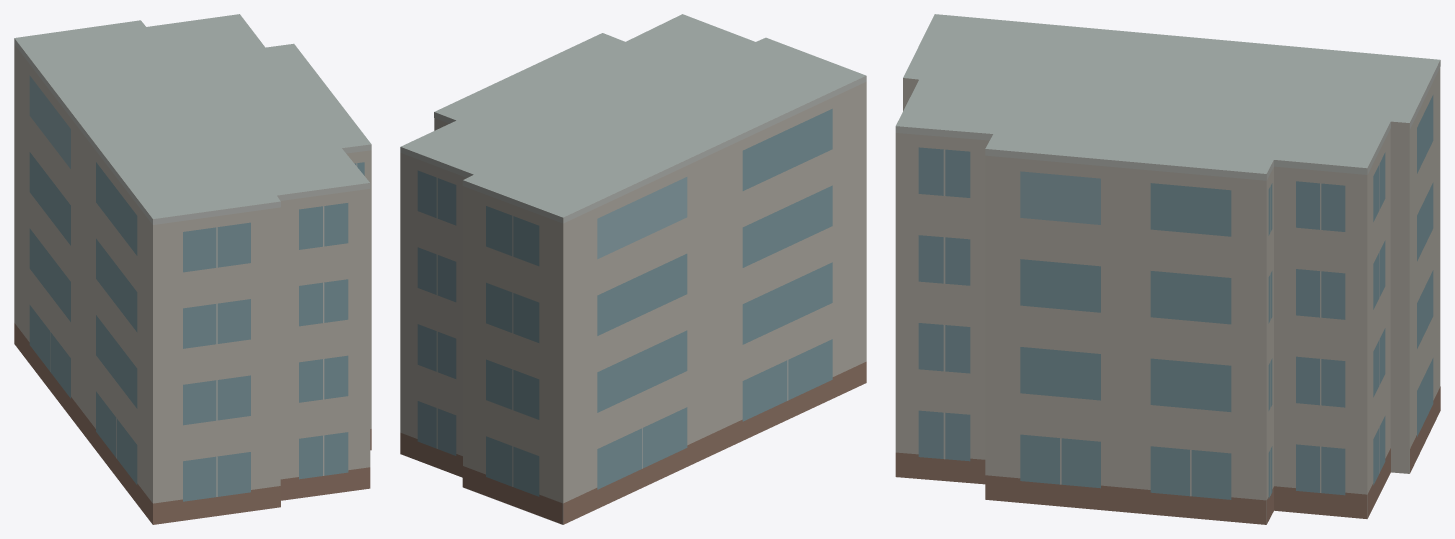
File: survey-upis-32952607.glb
The picture shows the model from 3 angles, left to right: view 1: azimuth 30°, elevation 25°; view 2: azimuth 150°, elevation 25°; view 3: azimuth 270°, elevation 25°; orthographic projection. The views are drawn at different scales.
Parts seen in each view (by area): view 1: survey-upis-32952607.tmp; view 2: survey-upis-32952607.tmp; view 3: survey-upis-32952607.tmp.
Boxes of the visible parts, x1,y1,x2,y2 form: survey-upis-32952607.tmp: (14, 14, 371, 524); survey-upis-32952607.tmp: (400, 14, 866, 524); survey-upis-32952607.tmp: (895, 14, 1440, 524).
Bounding box in the file's own units: 12.36 × 12.63 × 17.78.
